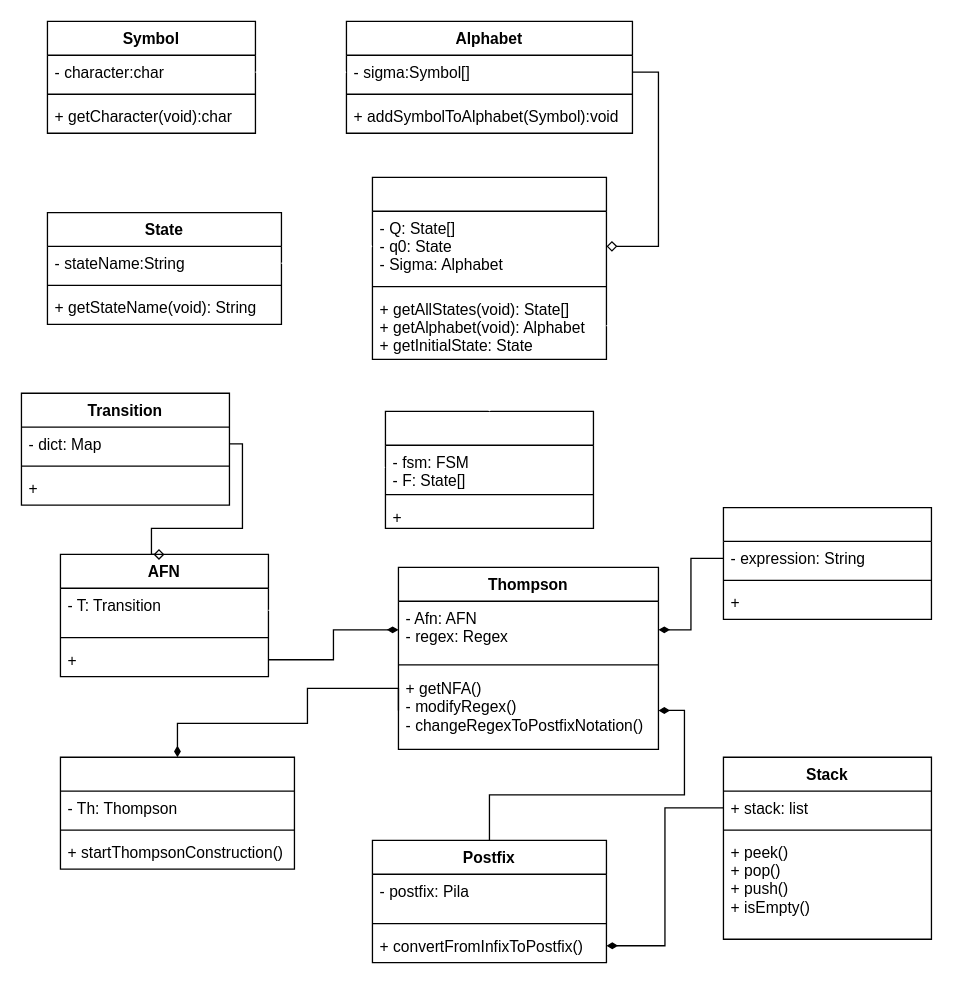
Some shapes in this 953 by 984 pixel diagram are drawn without their labels. Here are the shapes that lost their labels. From the top down, the box of each, then its label:
(371, 176, 606, 359): Fsm
(384, 410, 593, 528): Acceptor
(722, 506, 931, 619): Regex
(59, 756, 294, 869): Main
